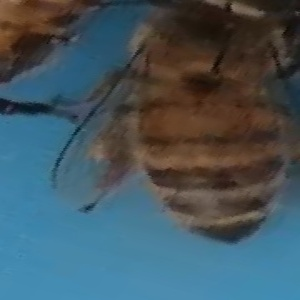bee: (122, 1, 295, 245)
